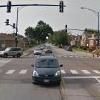Crosswalk: (4, 63, 97, 79)
